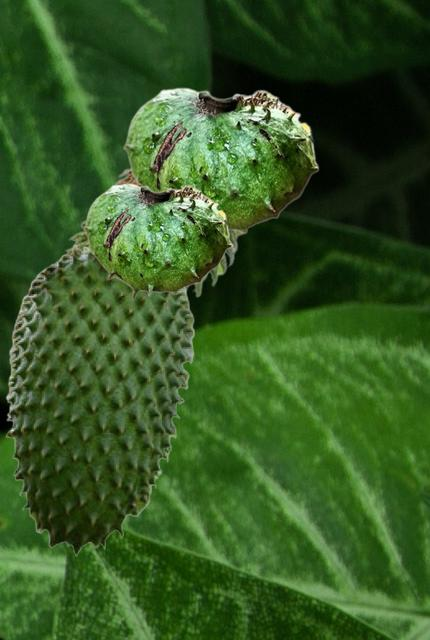guyabano: (5, 244, 194, 555), (123, 87, 318, 234), (64, 166, 243, 298), (83, 183, 231, 299)
